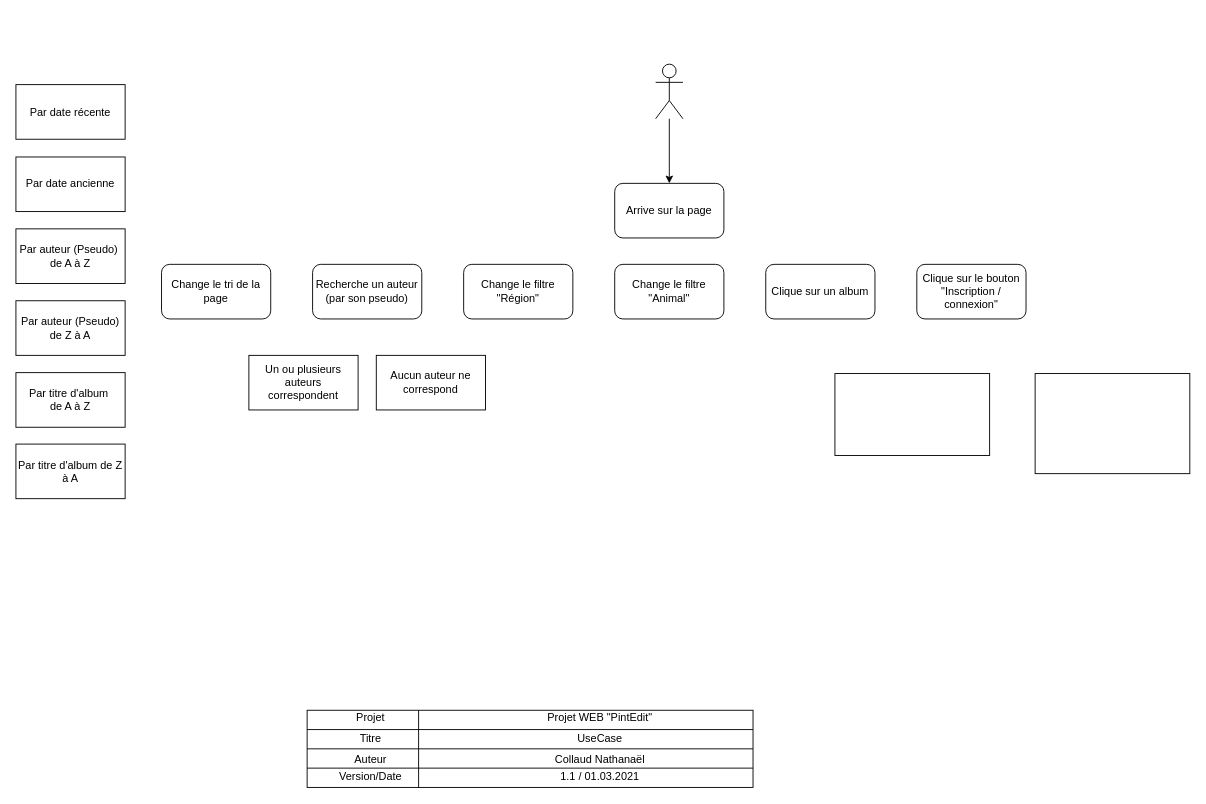
Image size: 1206x804. Some labels were removed from this diagram. Here are the shapes that lost their labels. From the top down, the centre of each, then its label:
the point at 669,91: User
the point at 912,414: Se connecter: -Pseudo -Mot de passe
the point at 1112,423: S'inscrire: -Pseudo -E-mail -Mot de passe -Confirmation du mot de passe
